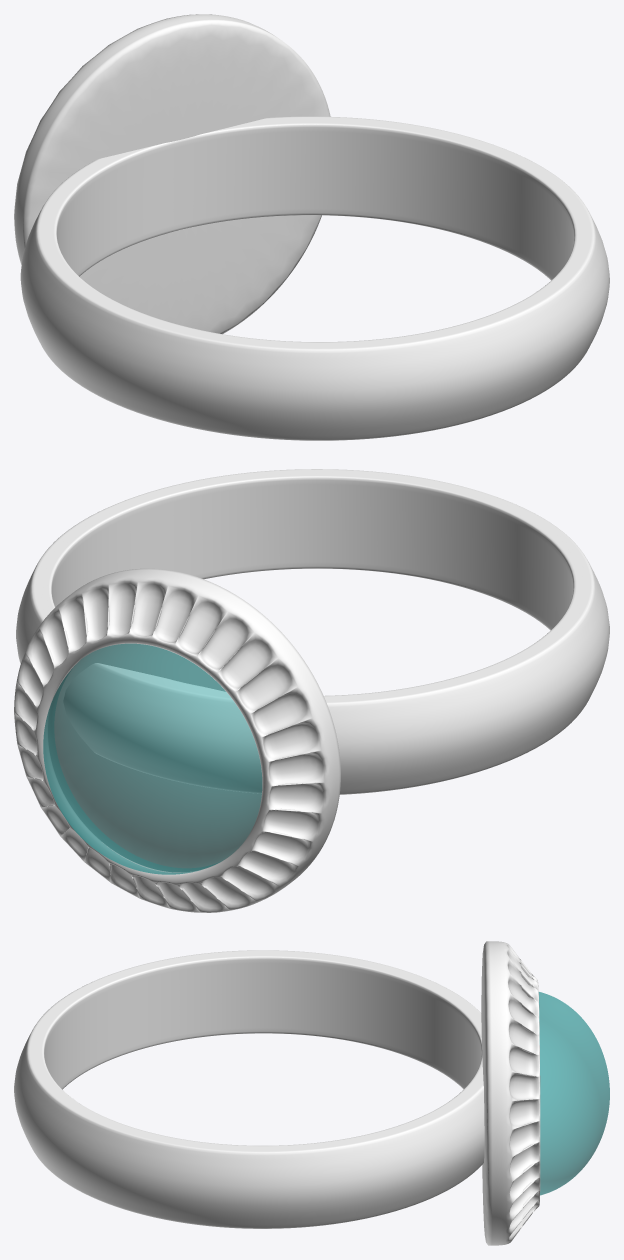
The model's file is ring.glb.
3 views of the same model, one above another, from view 1: azimuth 30°, elevation 25°; view 2: azimuth 150°, elevation 25°; view 3: azimuth 270°, elevation 25° (orthographic). The views are drawn at different scales.
Parts seen in each view (by area): view 1: Sphere.001, Sphere; view 2: Sphere.001, Sphere, Sphere.002; view 3: Sphere.001, Sphere, Sphere.002.
Part boxes in pixels (x1,y1,x2,y2): Sphere.001: (20,116,609,440); Sphere: (14,14,330,334); Sphere.001: (16,469,609,794); Sphere: (14,568,340,912); Sphere.002: (43,643,262,874); Sphere.001: (14,950,484,1228); Sphere: (481,941,540,1245); Sphere.002: (538,992,609,1195).
Size of the model in its own units: 0.2099 by 0.1282 by 0.2511.
